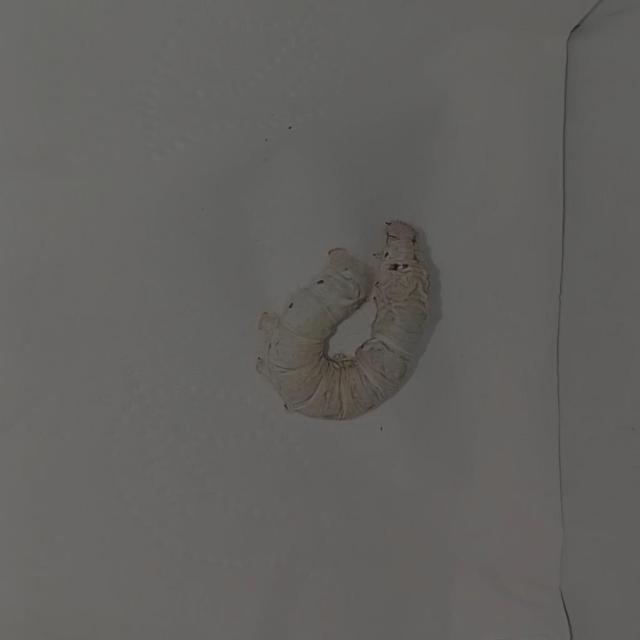Healthy: (247, 209, 452, 435)
